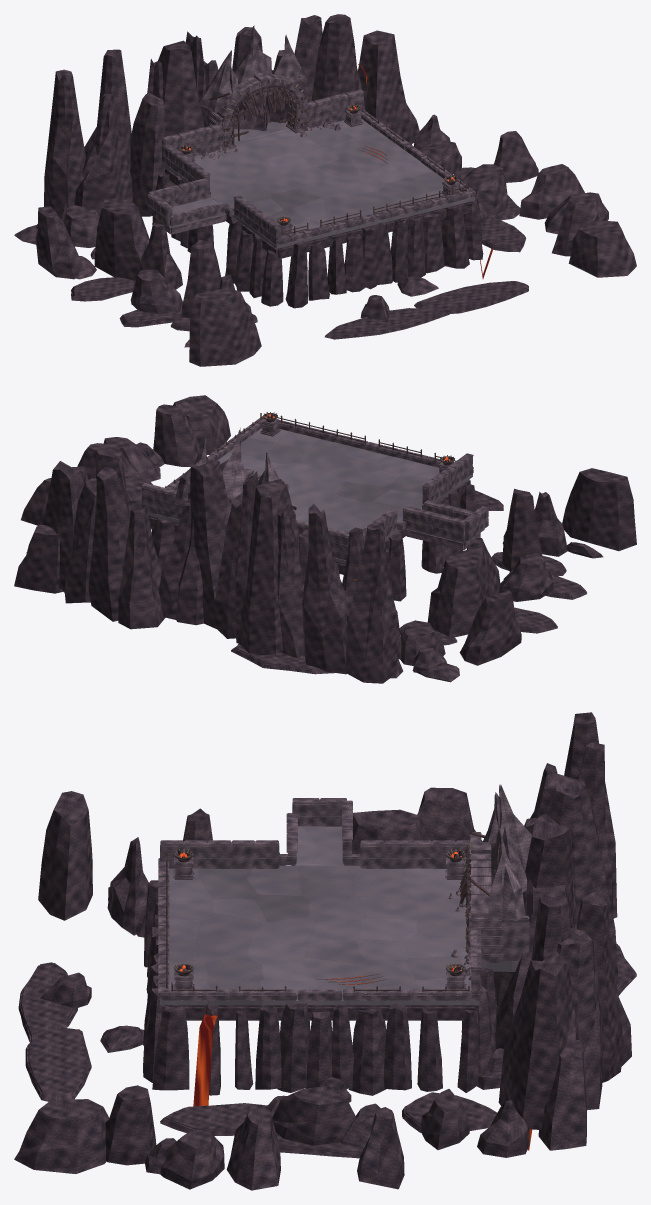
The model's file is tiger_arena_architecture.glb.
3 views of the same model, one above another, from view 1: azimuth 30°, elevation 25°; view 2: azimuth 150°, elevation 25°; view 3: azimuth 270°, elevation 25° (orthographic). The views are drawn at different scales.
Visible parts, largest first — view 1: OuterCalderaRidges, NorthCraterBackdrop, ContinuousCombatFloor, PlatformCliffSkirt, CoolingLavaCrust, ThreeBasaltFangs, NorthernRetainingWall, LavaBasaltShoals, WesternRetainingWall, SouthernParapet, EntrySideWalls, BasaltFoundation (+9 smaller); view 2: NorthCraterBackdrop, OuterCalderaRidges, ContinuousCombatFloor, CoolingLavaCrust, PlatformCliffSkirt, ThreeBasaltFangs, EntrySideWalls, NorthernRetainingWall, LavaBasaltShoals, WesternRetainingWall, SouthernParapet, PerimeterFence (+4 smaller); view 3: OuterCalderaRidges, ContinuousCombatFloor, NorthCraterBackdrop, PlatformCliffSkirt, CoolingLavaCrust, WesternRetainingWall, LavaBasaltShoals, ThreeBasaltFangs, EasternParapet, BasaltFoundation, EntryWalk, ReinforcedPrisonFacade (+9 smaller).
Boxes of the visible parts, x1,y1,x2,y2 form: OuterCalderaRidges: [35, 103, 636, 366]; NorthCraterBackdrop: [44, 14, 412, 216]; ContinuousCombatFloor: [162, 118, 475, 248]; PlatformCliffSkirt: [152, 171, 483, 308]; CoolingLavaCrust: [71, 195, 528, 339]; ThreeBasaltFangs: [198, 25, 308, 112]; NorthernRetainingWall: [162, 89, 364, 162]; LavaBasaltShoals: [14, 167, 488, 347]; WesternRetainingWall: [162, 145, 282, 242]; SouthernParapet: [273, 191, 475, 245]; EntrySideWalls: [148, 178, 228, 226]; BasaltFoundation: [165, 168, 472, 258]; NorthCraterBackdrop: [43, 447, 401, 683]; OuterCalderaRidges: [14, 395, 636, 678]; ContinuousCombatFloor: [148, 428, 472, 563]; CoolingLavaCrust: [231, 490, 586, 674]; PlatformCliffSkirt: [151, 484, 476, 601]; ThreeBasaltFangs: [176, 428, 279, 518]; EntrySideWalls: [402, 500, 474, 541]; NorthernRetainingWall: [141, 483, 349, 560]; LavaBasaltShoals: [136, 442, 603, 682]; WesternRetainingWall: [362, 453, 473, 542]; SouthernParapet: [278, 420, 473, 474]; PerimeterFence: [165, 412, 455, 487]; OuterCalderaRidges: [14, 787, 586, 1190]; ContinuousCombatFloor: [160, 865, 479, 1005]; NorthCraterBackdrop: [493, 712, 631, 1129]; PlatformCliffSkirt: [143, 880, 496, 1095]; CoolingLavaCrust: [18, 943, 636, 1158]; WesternRetainingWall: [160, 840, 470, 868]; LavaBasaltShoals: [40, 887, 503, 1174]; ThreeBasaltFangs: [482, 784, 531, 921]; EasternParapet: [159, 989, 480, 1000]; BasaltFoundation: [161, 1005, 478, 1020]; EntryWalk: [295, 826, 344, 865]; ReinforcedPrisonFacade: [465, 831, 503, 962].
Size of what is drawn, in the model's own units: 68.73 by 27.44 by 54.53.
Materials: 10 (5 with a texture image).
